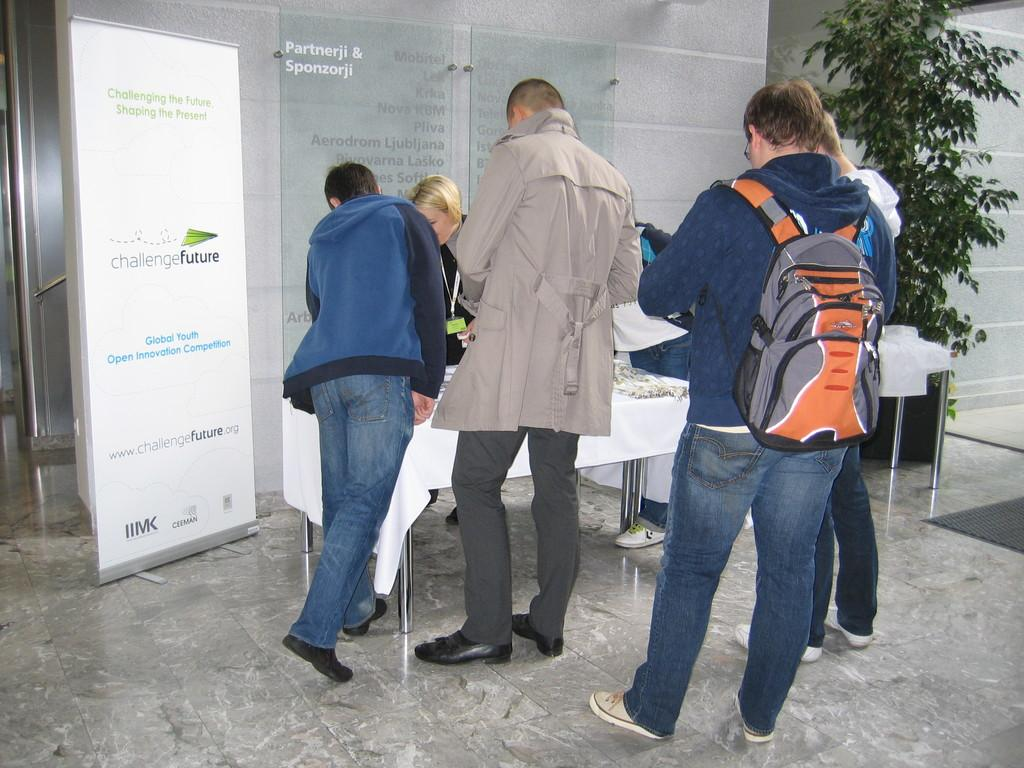Luggage-and-bags: (711, 176, 881, 490)
